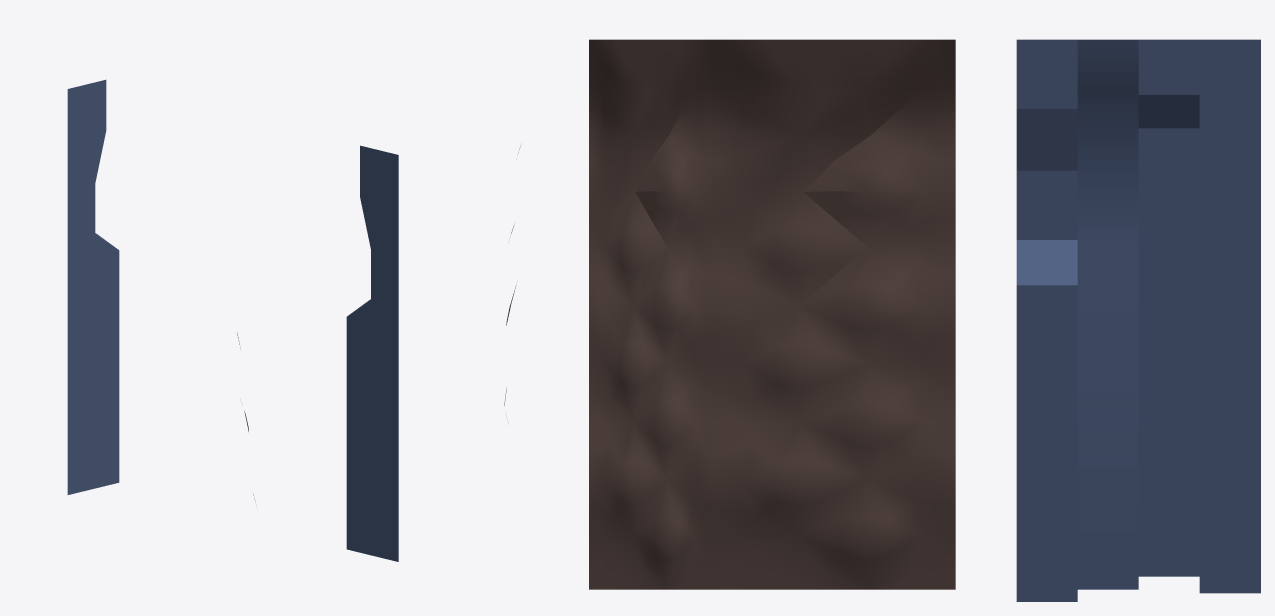
File: Demo Background.glb
3 renders of one model, left to right at view 1: azimuth 30°, elevation 25°; view 2: azimuth 150°, elevation 25°; view 3: azimuth 270°, elevation 25°, orthographic. The views are drawn at different scales.
Visible parts, largest first — view 1: Wall.002; view 2: Wall.002; view 3: Wall.004, Wall.005, Wall.002, Wall, Wall.003, Wall.001.
Part boxes in pixels (left/top/right/bottom): Wall.002: left=67, top=79, right=119, bottom=494; Wall.002: left=346, top=145, right=398, bottom=561; Wall.004: left=711, top=39, right=955, bottom=589; Wall.005: left=589, top=39, right=711, bottom=589; Wall.002: left=1016, top=39, right=1077, bottom=601; Wall: left=1199, top=39, right=1260, bottom=593; Wall.003: left=1077, top=39, right=1138, bottom=589; Wall.001: left=1138, top=39, right=1199, bottom=576.
Bounding box in the file's own units: 2.67 × 20 × 22.
